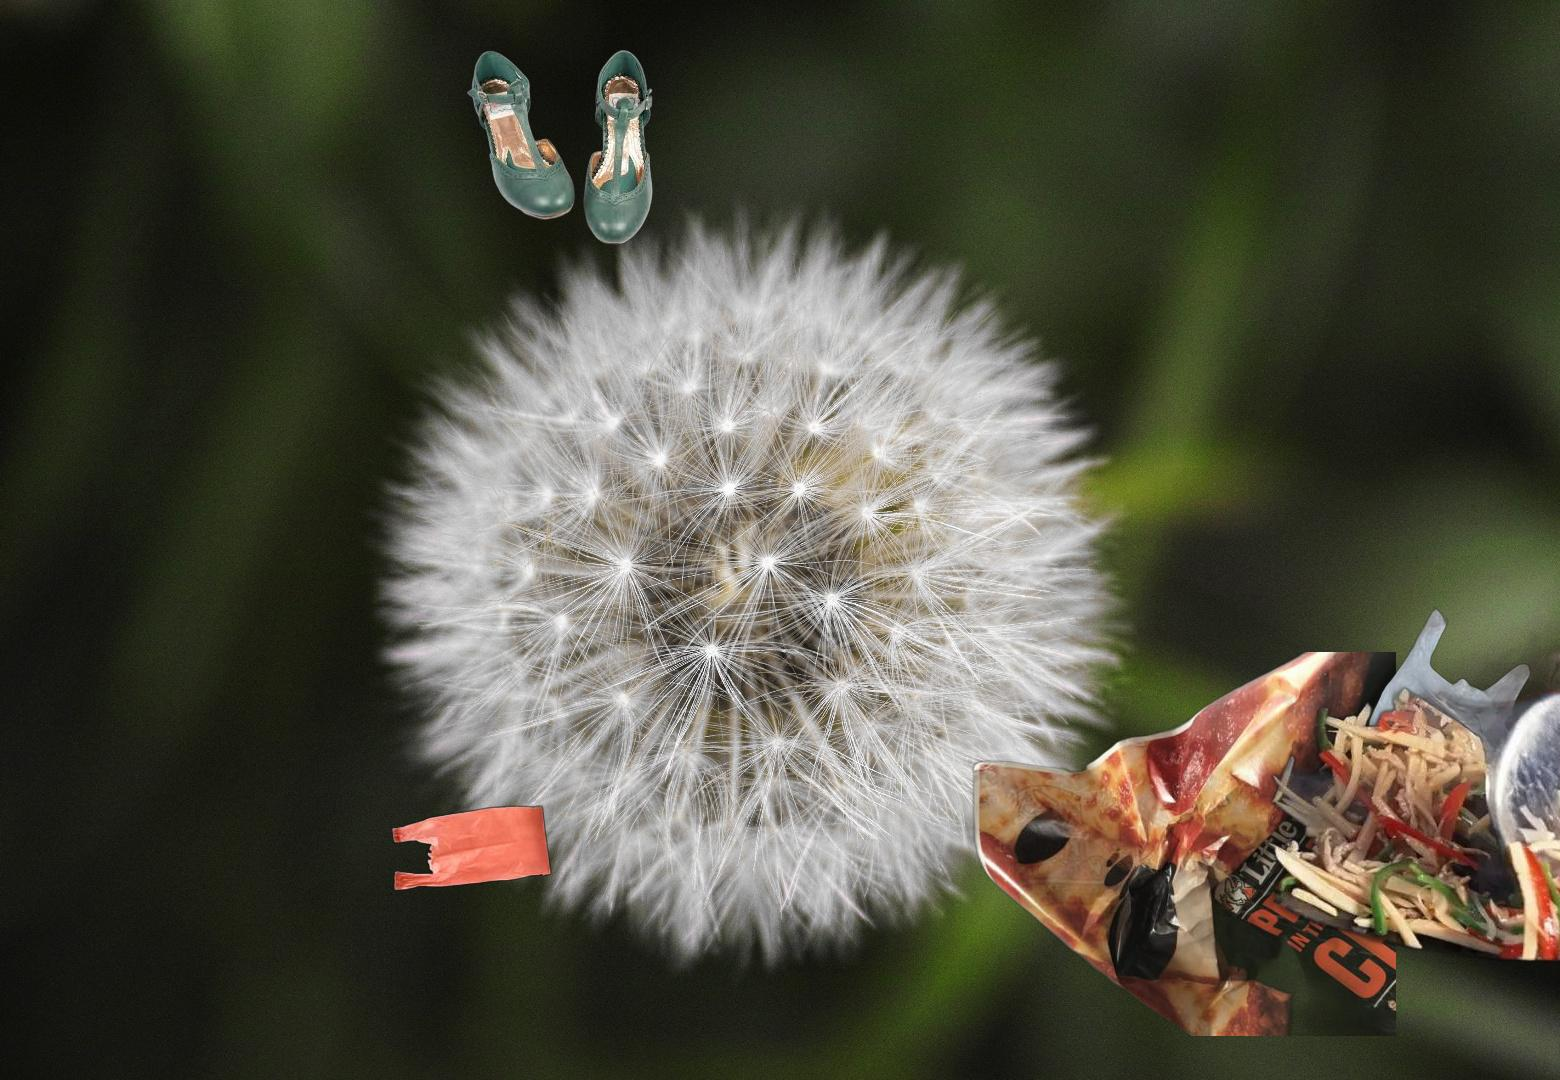biological: (1230, 551, 1560, 965), (1187, 1044, 1487, 1080)
paper: (968, 652, 1396, 1036)
plastic-bag: (1360, 603, 1545, 870), (388, 782, 574, 894)
shoes: (463, 47, 656, 247)
